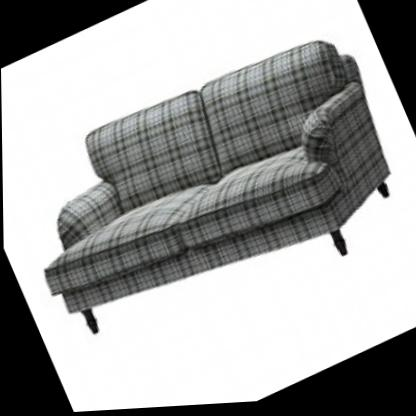Sofa: (0, 0, 416, 391)
